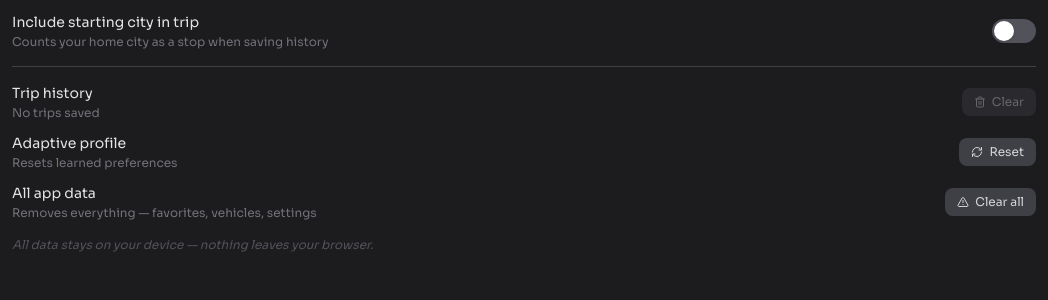
Test: PrivacySection › cancel link after first click resets back to "Clear all"
Click the button "Clear all" at (991, 202), box [945, 188, 1036, 216]
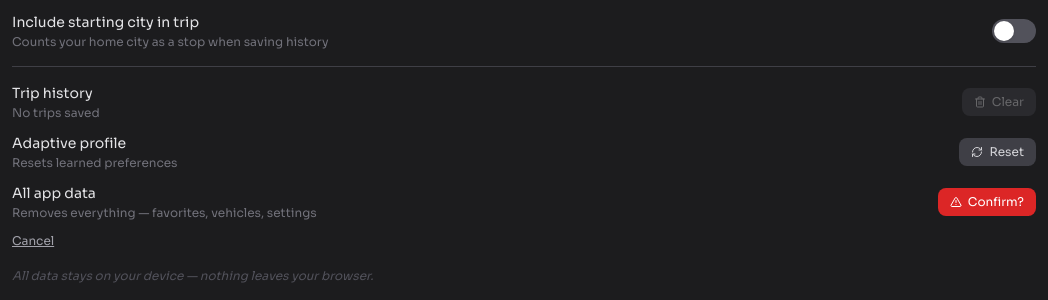
Expected: the button "Confirm?" is shown, [938, 188, 1036, 216]
Click the button "Cancel" at (33, 241), box [12, 233, 54, 249]
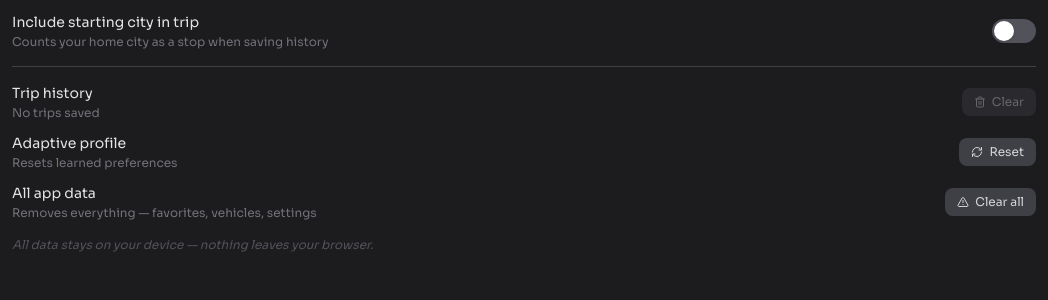
Expected: the button "Clear all" is shown, [945, 188, 1036, 216]
Expected: the button "Confirm" is gone
